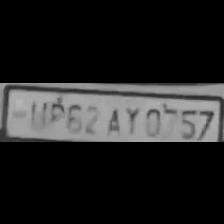0: (140, 104, 162, 136)
2: (82, 100, 100, 134)
5: (176, 104, 196, 140)
6: (63, 99, 83, 133)
7: (194, 106, 214, 140)
A: (100, 102, 122, 134)
P: (43, 97, 62, 129)
U: (28, 97, 44, 127)
Y: (122, 103, 140, 135)
